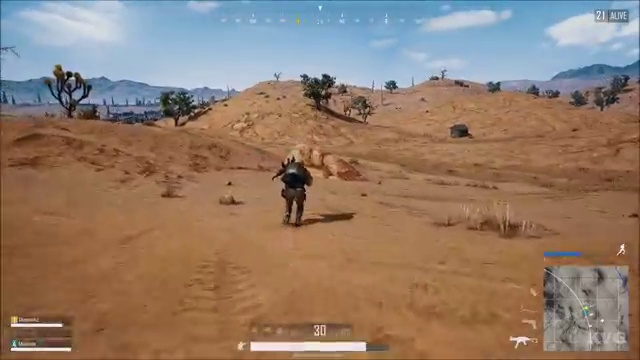Player: (264, 146, 322, 231)
